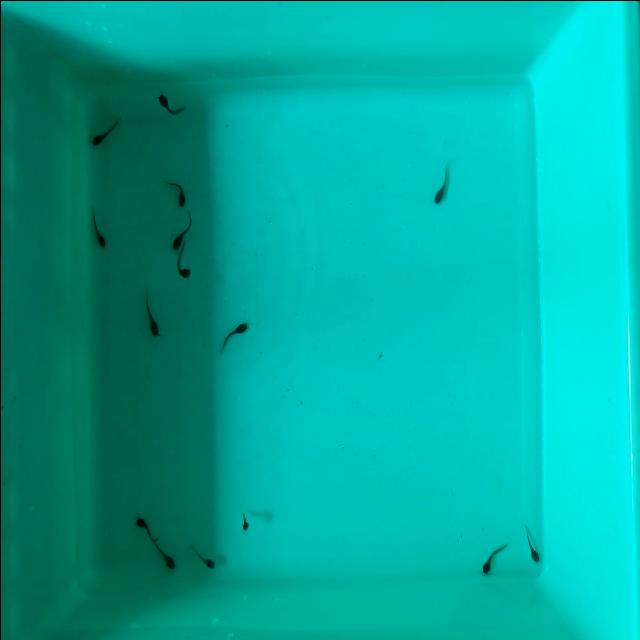lele: (212, 317, 248, 357), (477, 539, 511, 577), (89, 113, 121, 151), (129, 512, 162, 546), (169, 214, 195, 256), (163, 171, 190, 211), (150, 540, 178, 575), (153, 92, 186, 121), (187, 543, 217, 572), (175, 239, 192, 283), (433, 164, 448, 204), (144, 294, 158, 336), (91, 208, 105, 249), (524, 527, 538, 563), (241, 510, 248, 532)
